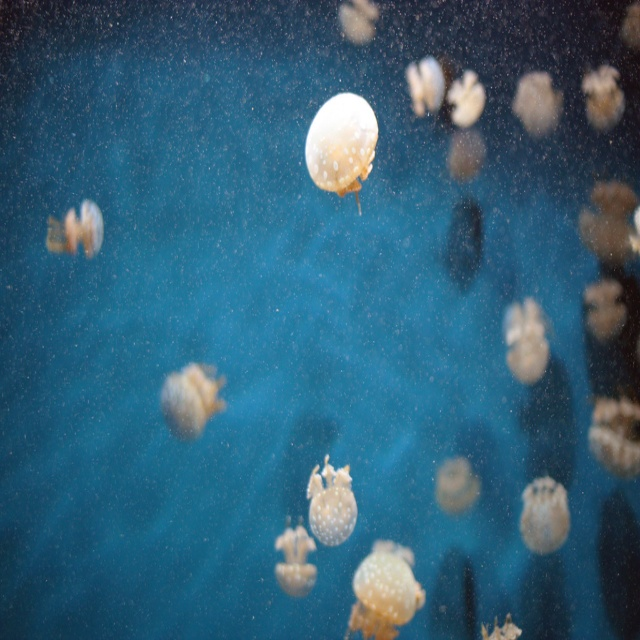Jellyfish: (304, 95, 386, 211), (344, 537, 421, 639), (160, 361, 225, 440), (580, 182, 640, 265), (306, 455, 357, 548), (502, 298, 551, 388), (518, 480, 572, 556), (44, 196, 106, 262), (590, 393, 640, 474), (273, 515, 320, 599), (511, 70, 561, 140), (584, 61, 627, 137), (583, 276, 626, 345), (408, 55, 446, 119), (448, 68, 483, 127), (337, 0, 379, 45)
